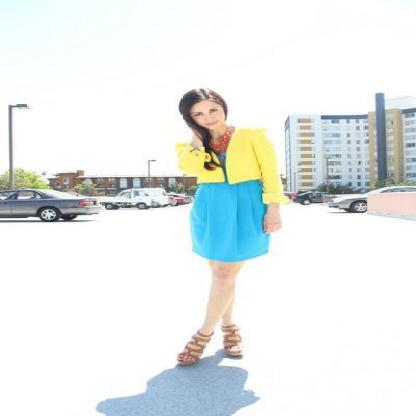jacket: (175, 128, 296, 208), (191, 175, 270, 261)
shoe: (177, 320, 241, 366)
